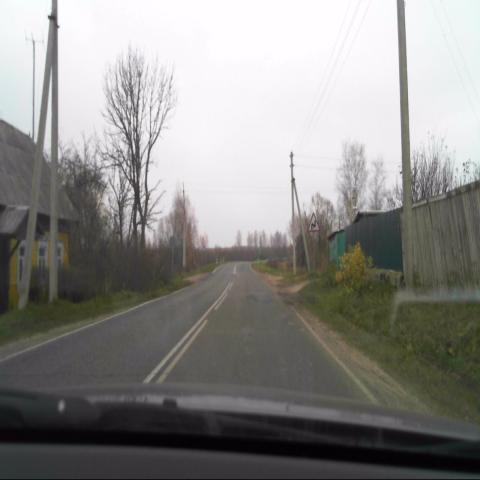1_12: (308, 212, 320, 231)
